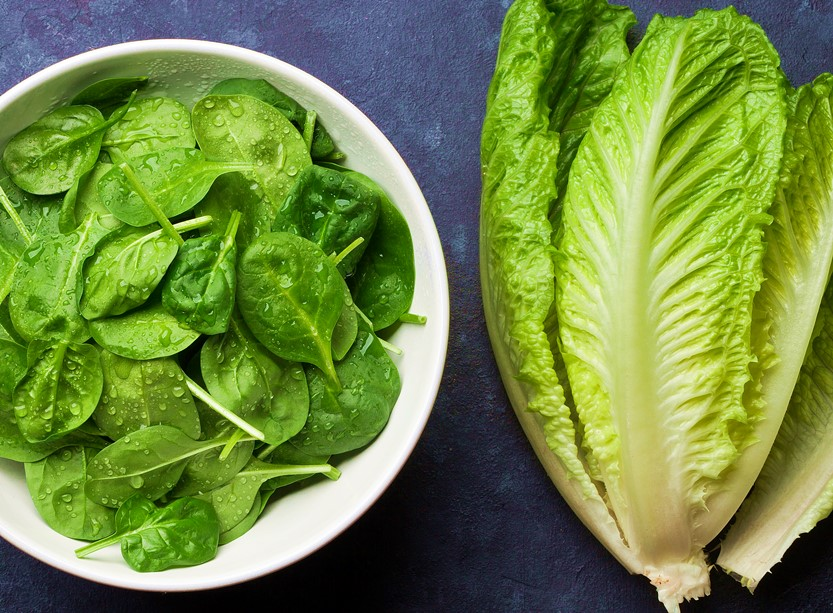Lettuce: (471, 0, 833, 611)
Spinach: (1, 65, 429, 582)
